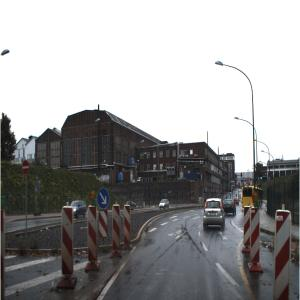NO ENTRY: (23, 160, 30, 176)
keep right: (98, 189, 111, 211)
